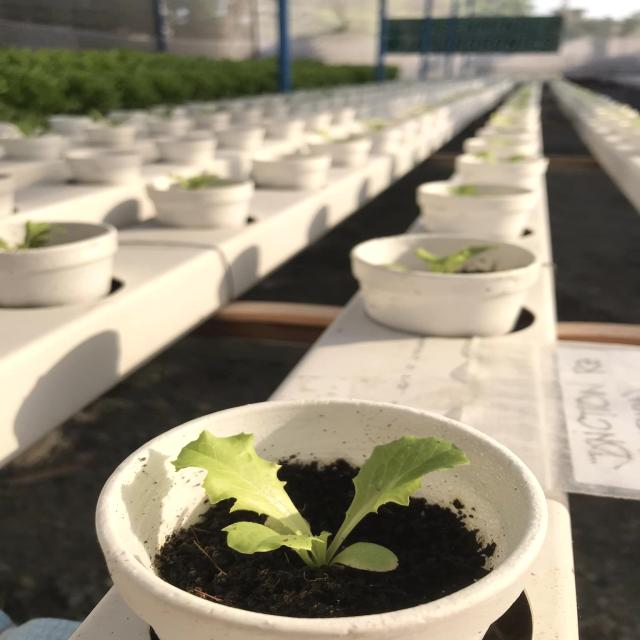Lettuce-Not-Ready-to-Harvest: (174, 432, 471, 574)
